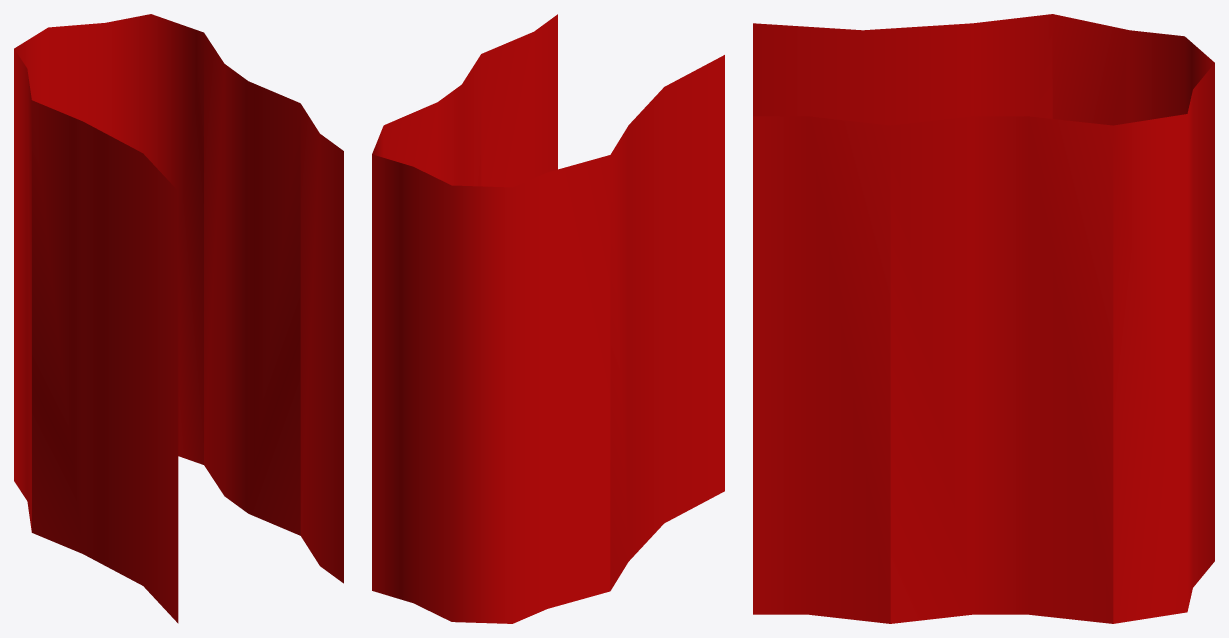
The picture shows the model from 3 angles, left to right: view 1: azimuth 30°, elevation 25°; view 2: azimuth 150°, elevation 25°; view 3: azimuth 270°, elevation 25°; orthographic projection. The views are drawn at different scales.
Parts seen in each view (by area): view 1: BG001_1010_00_c02; view 2: BG001_1010_00_c02; view 3: BG001_1010_00_c02.
Part boxes in pixels (bbox=[...]): BG001_1010_00_c02: bbox=[14, 14, 343, 623]; BG001_1010_00_c02: bbox=[372, 14, 724, 623]; BG001_1010_00_c02: bbox=[753, 14, 1214, 623].
Bounding box in the file's own units: 480 × 1000 × 840.
